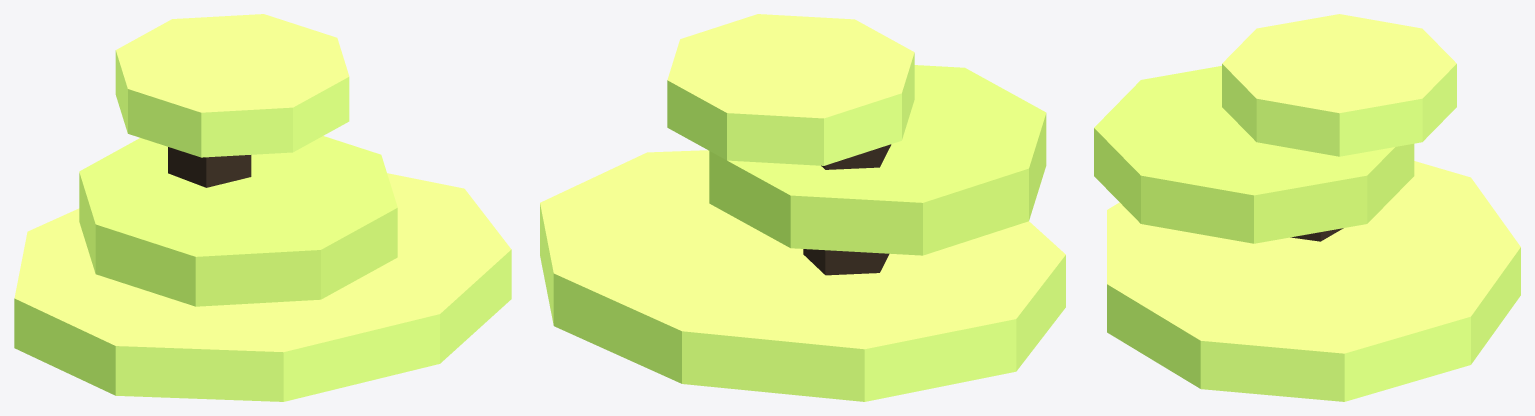
File: dc_bracket_fungus.glb
3 views of the same model, side by side, from view 1: azimuth 30°, elevation 25°; view 2: azimuth 150°, elevation 25°; view 3: azimuth 270°, elevation 25° (orthographic). The views are drawn at different scales.
Visible parts, largest first — view 1: part.dc_bracket_fungus; view 2: part.dc_bracket_fungus; view 3: part.dc_bracket_fungus.
Part boxes in pixels (x1,y1,x2,y2): part.dc_bracket_fungus: (14, 14, 511, 401); part.dc_bracket_fungus: (540, 14, 1065, 401); part.dc_bracket_fungus: (1094, 14, 1520, 401).
Bounding box in the file's own units: 0.4727 × 0.255 × 0.4.
